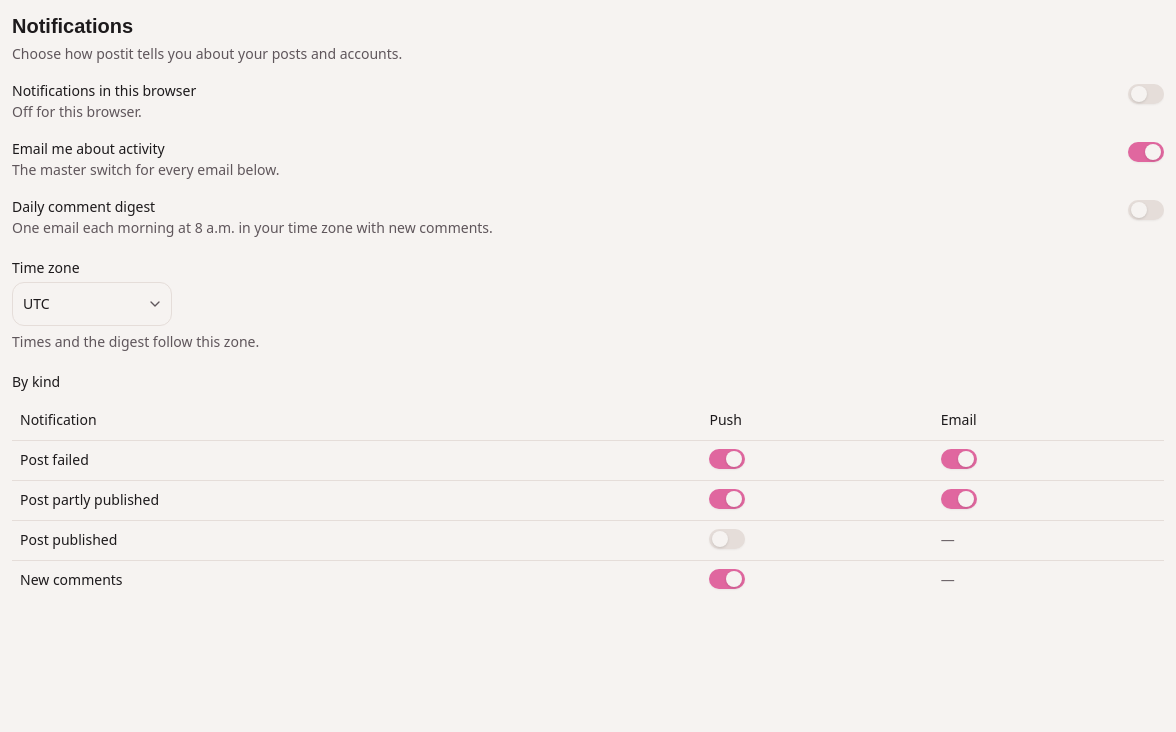
Test: browser push › does not prompt again when permission was blocked after the page loaded
Click the switch named "Notifications in this browser" in the row of "Notifications in this browser": (1146, 94) left=1128, top=84, right=1164, bottom=104
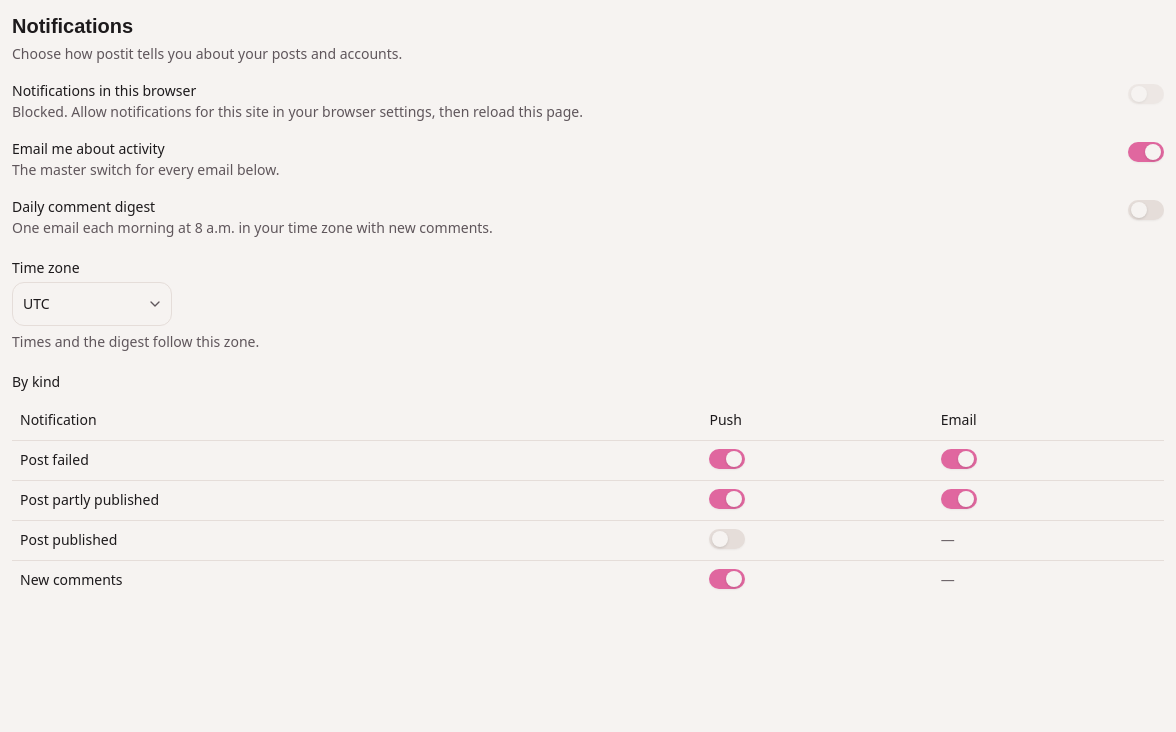
expect the text "Blocked. Allow notifications for this site in your browser settings, then reload this page." is shown: met, box left=12, top=102, right=583, bottom=121
